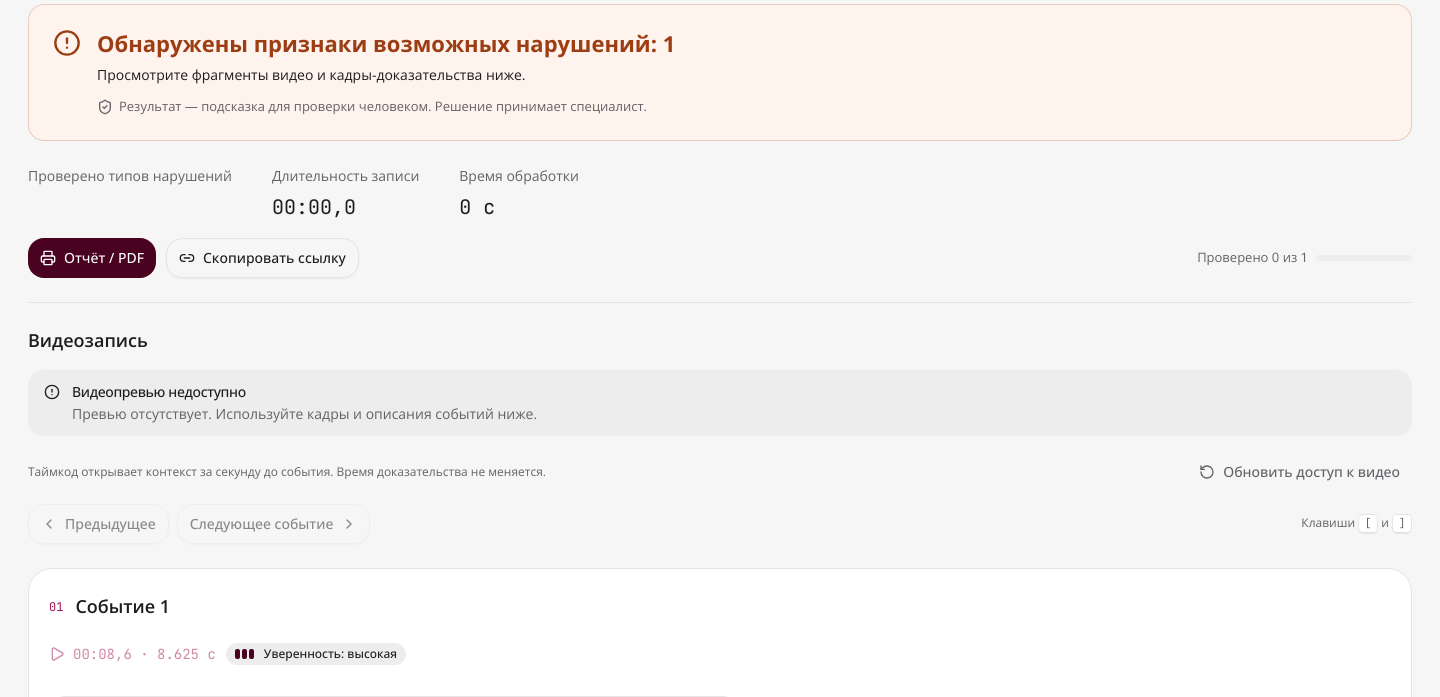
Test: ResultView reviewer workflow › prints the report and copies the link to this check
Click the button "Отчёт / PDF": (92, 258) [28,238,156,278]
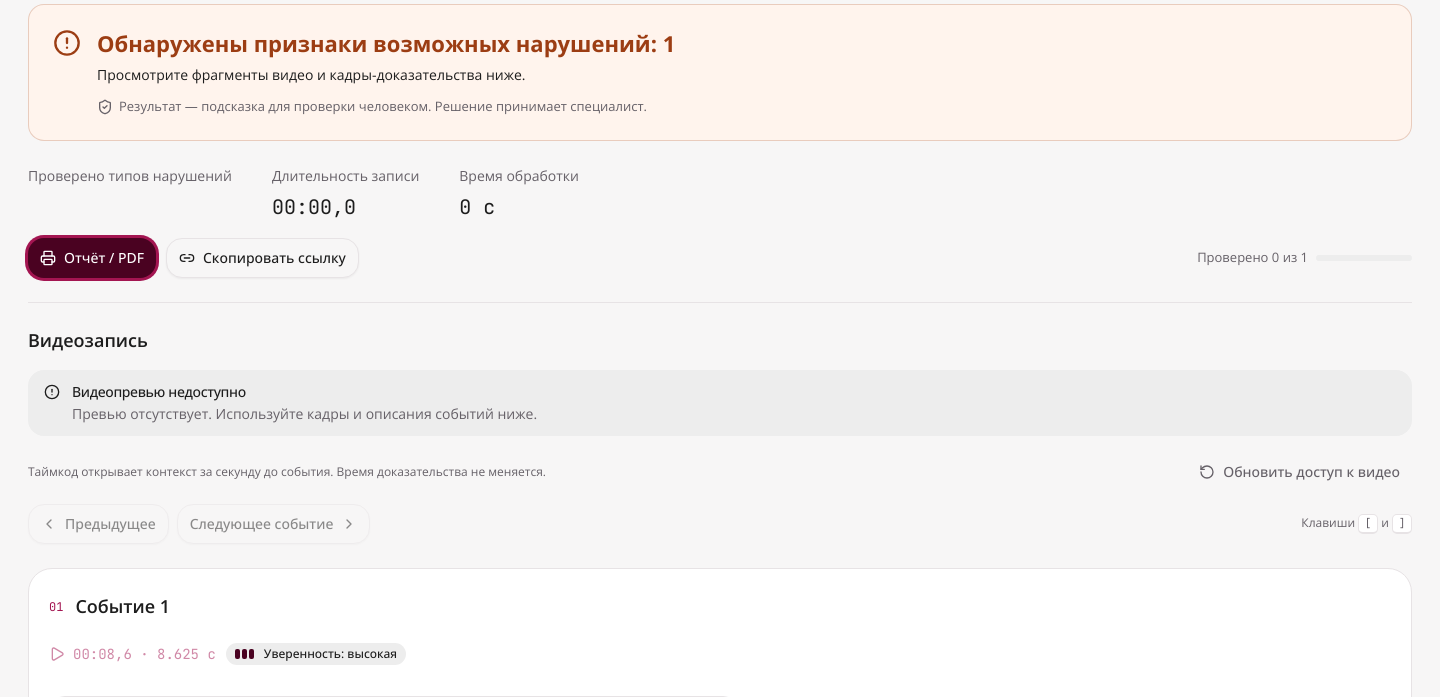
Click the button "Скопировать ссылку": (262, 258) [166,238,359,278]
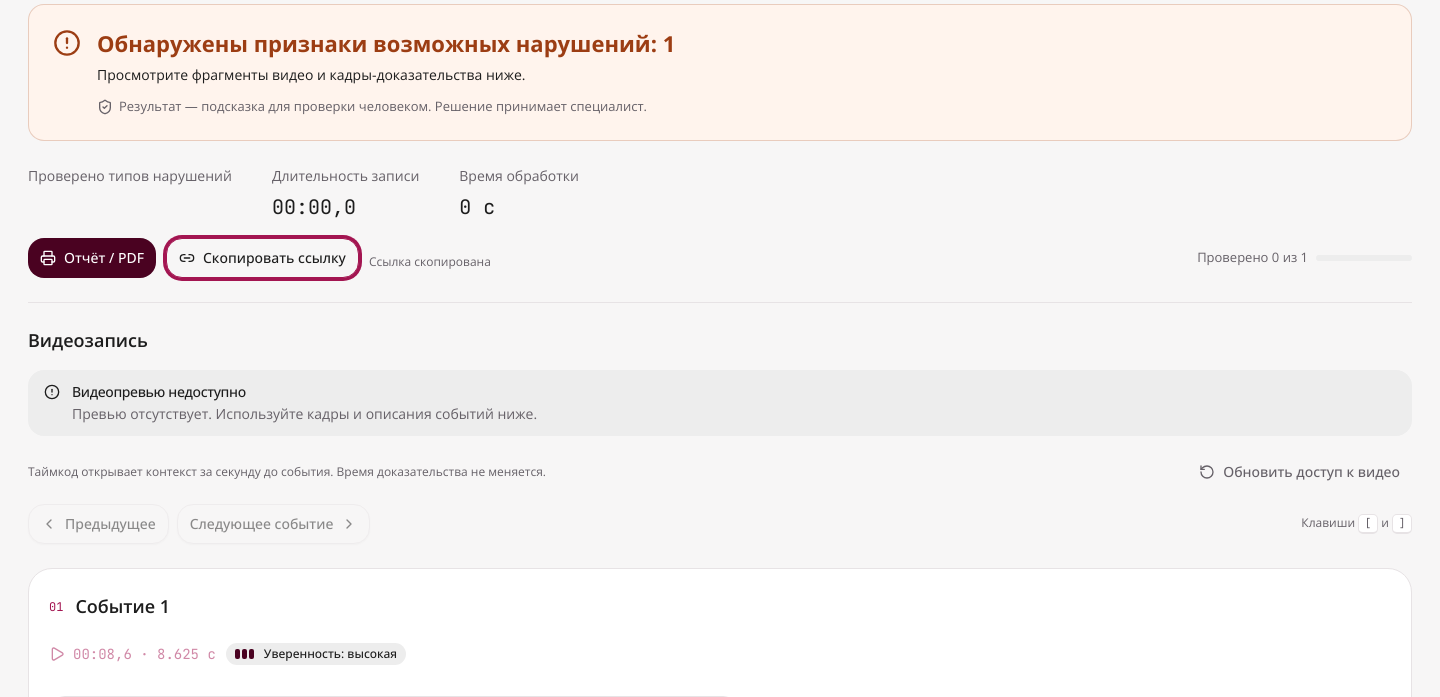
Expected: the text "Ссылка скопирована" is shown, [369,253,491,271]
